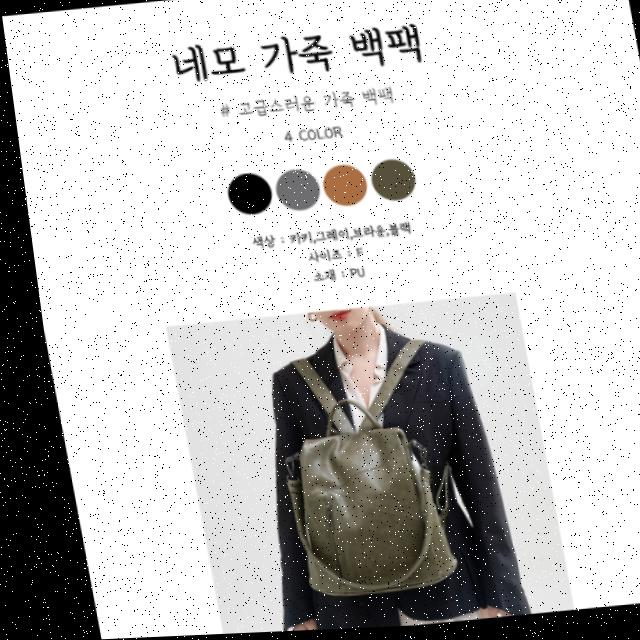backpack: (251, 393, 456, 623)
